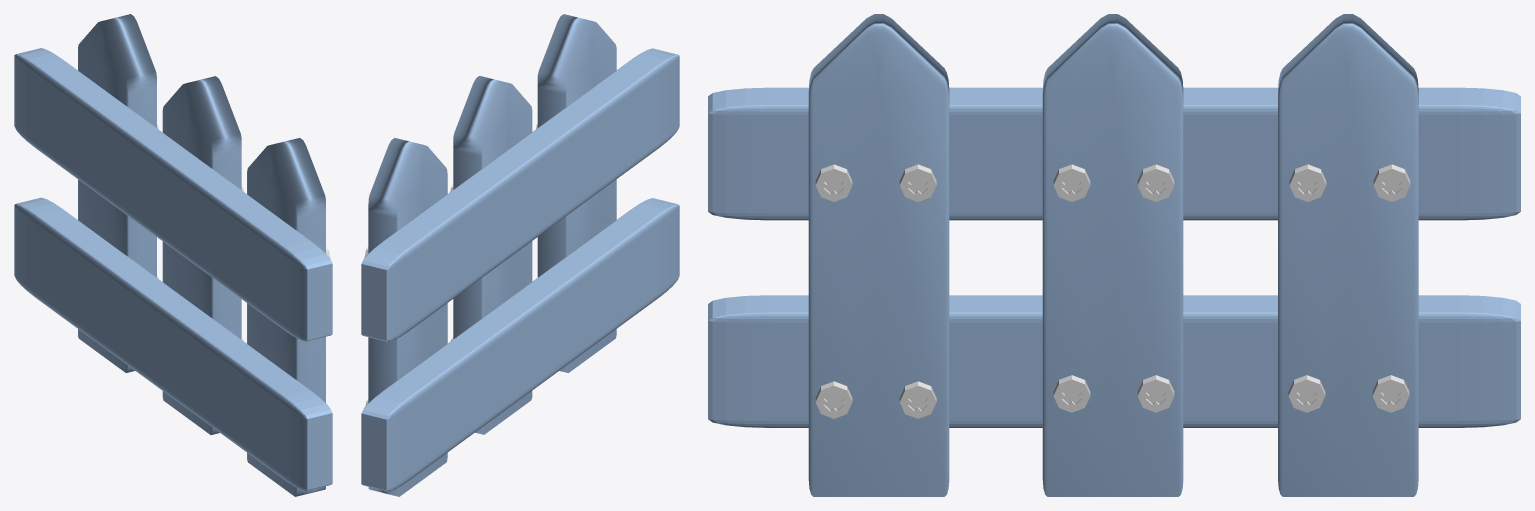
Rendered from vallaAZUL2FINAL.fbx.
3 views of the same model, side by side, from view 1: azimuth 30°, elevation 25°; view 2: azimuth 150°, elevation 25°; view 3: azimuth 270°, elevation 25° (orthographic). The views are drawn at different scales.
Visible parts, largest first — view 1: Cube.004, Cube.003, Cube.001, Cube, Cube.002; view 2: Cube.004, Cube.003, Cube.002, Cube.001, Cube; view 3: Cube, Cube.001, Cube.002, Cube.004, Cube.003, Cylinder.004, Cylinder.003, Cylinder.005, Cylinder.007, Cylinder, Cylinder.001, Cylinder.002 (+5 smaller).
Part boxes in pixels (x1,y1,x2,y2): Cube.004: [14, 48, 332, 341]; Cube.003: [14, 197, 332, 490]; Cube.001: [247, 138, 325, 496]; Cube: [162, 76, 241, 434]; Cube.002: [78, 14, 156, 372]; Cube.004: [361, 48, 679, 341]; Cube.003: [361, 198, 679, 491]; Cube.002: [368, 138, 447, 496]; Cube.001: [537, 14, 616, 372]; Cube: [453, 76, 532, 434]; Cube: [1042, 14, 1183, 496]; Cube.001: [808, 14, 949, 496]; Cube.002: [1278, 14, 1418, 496]; Cube.004: [708, 87, 1520, 220]; Cube.003: [708, 295, 1520, 427]; Cylinder.004: [1288, 375, 1325, 412]; Cylinder.003: [1137, 375, 1174, 412]; Cylinder.005: [1372, 375, 1409, 412]; Cylinder.007: [1373, 164, 1410, 201]; Cylinder: [1053, 164, 1090, 201]; Cylinder.001: [1137, 164, 1174, 201]; Cylinder.002: [1053, 375, 1090, 412].
Bounding box in the file's own units: 39.94 × 197 × 313.
